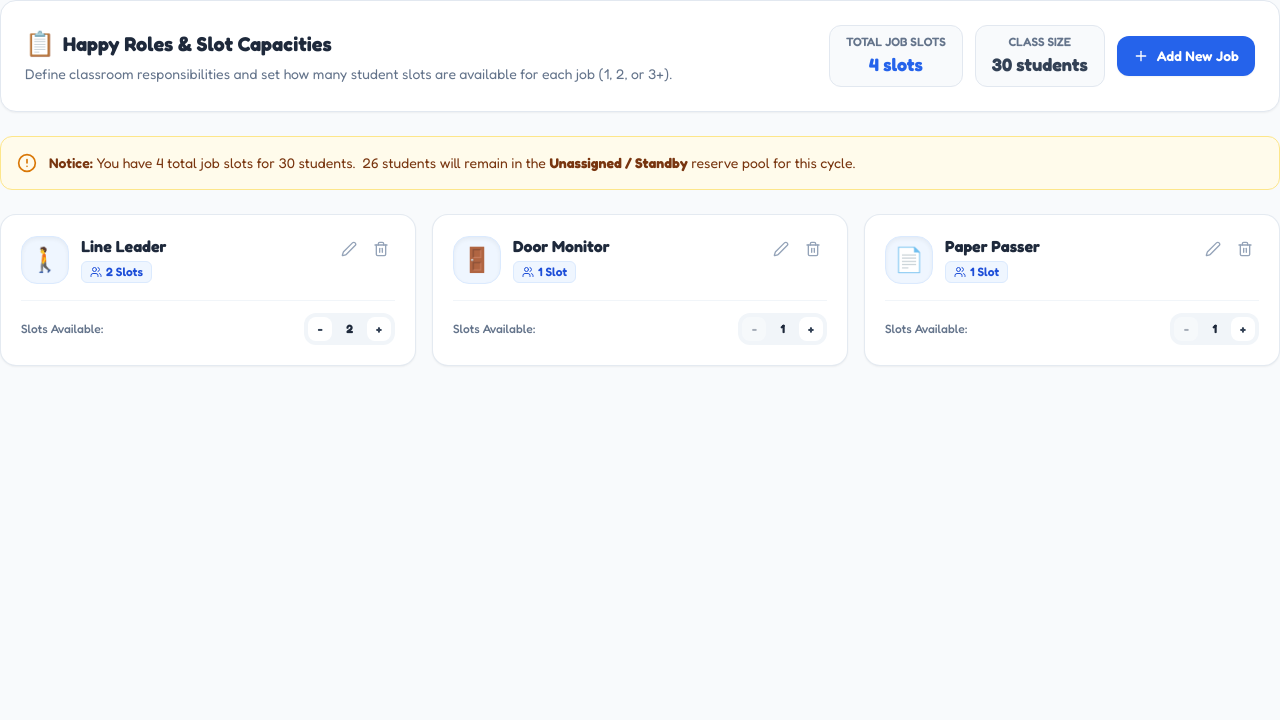
Test: RoleManager › opens inline add form at top when clicking Add New Job
Click the button "Add New Job" at (1186, 56), box [1117,36,1255,76]
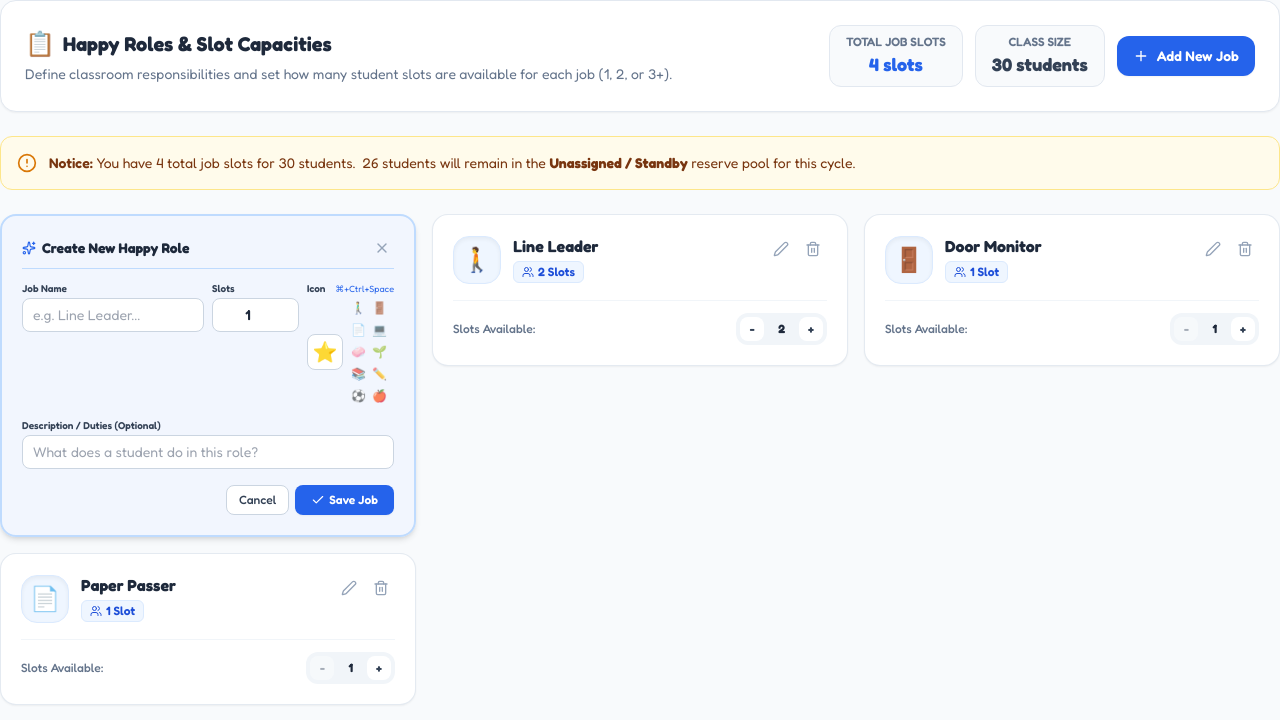
Expected: the heading "Create New Happy Role" is shown, [22,238,189,258]
Expected: the field with placeholder "e.g. Line Leader..." is empty, [22,298,204,332]
Expected: the number field holds "1", [212,298,299,332]
